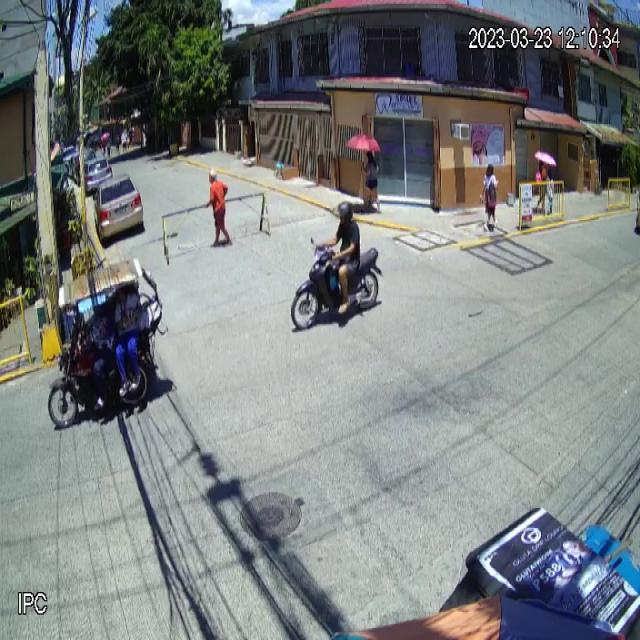Motorcycle: (289, 236, 384, 331)
Tricycle: (46, 257, 170, 427)
